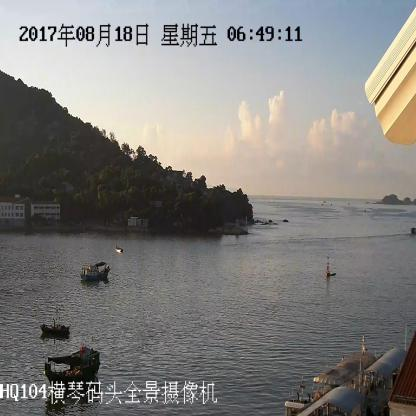Fishing Boat: (44, 348, 100, 378), (80, 262, 110, 280), (40, 318, 69, 335)
